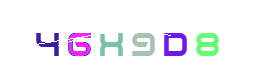4: (11, 0, 91, 80)
6: (39, 0, 119, 80)
8: (167, 0, 247, 80)
9: (91, 0, 171, 80)
D: (109, 0, 189, 80)
X: (89, 0, 169, 80)
